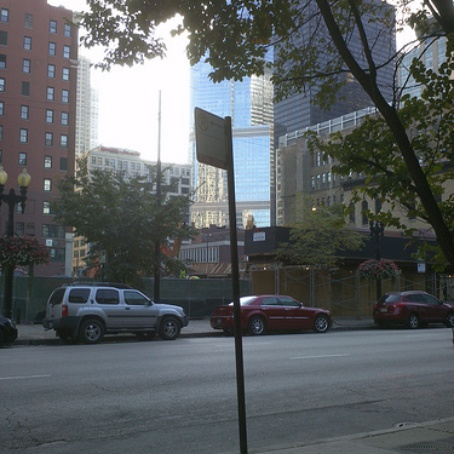building: (194, 1, 390, 230), (1, 1, 69, 276), (280, 122, 447, 233)
car: (44, 283, 183, 340), (203, 289, 337, 332), (375, 287, 454, 333)
sign: (190, 103, 241, 175)
tree: (158, 1, 452, 267), (58, 160, 193, 290)
